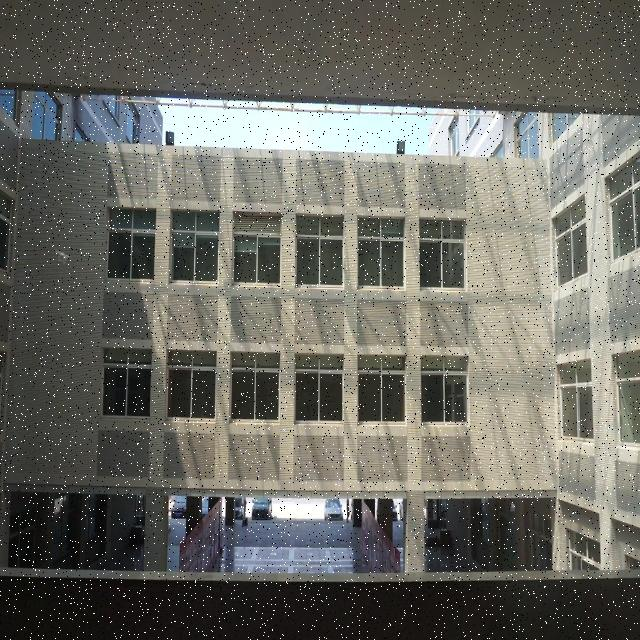UAV: (55, 250, 70, 264)
